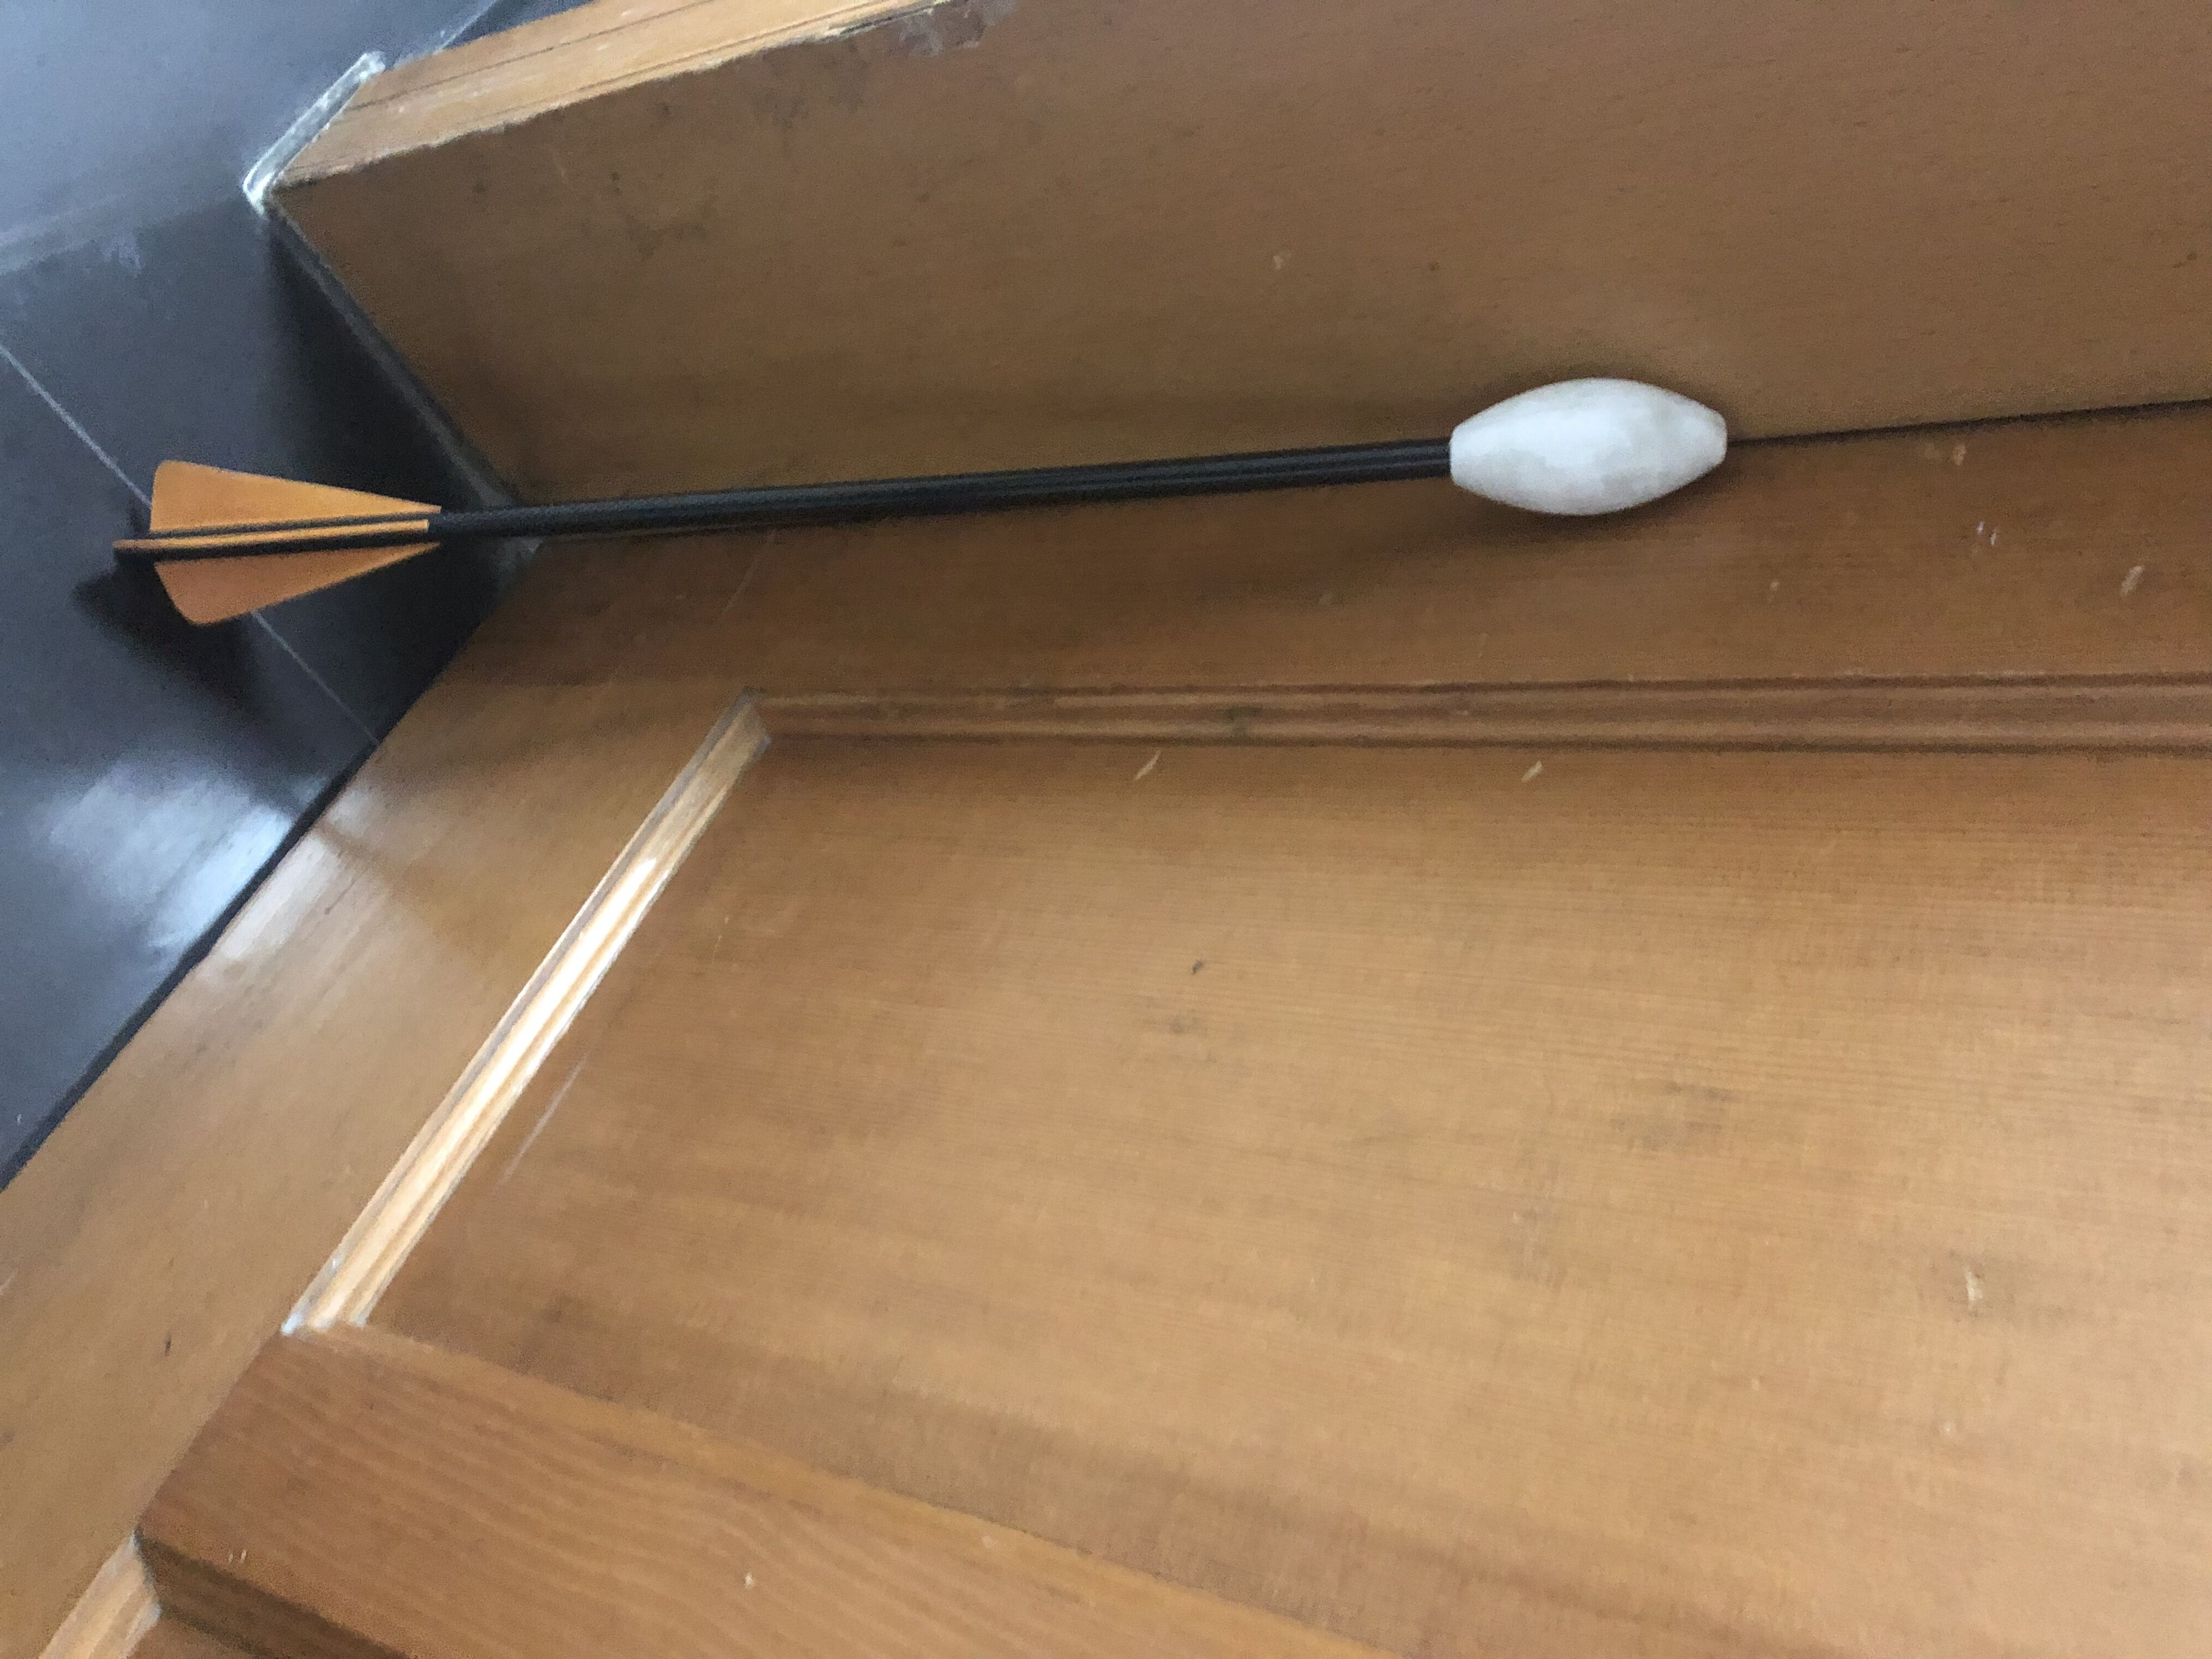arrow: (101, 366, 1737, 638)
arrowFront: (1446, 373, 1733, 518)
